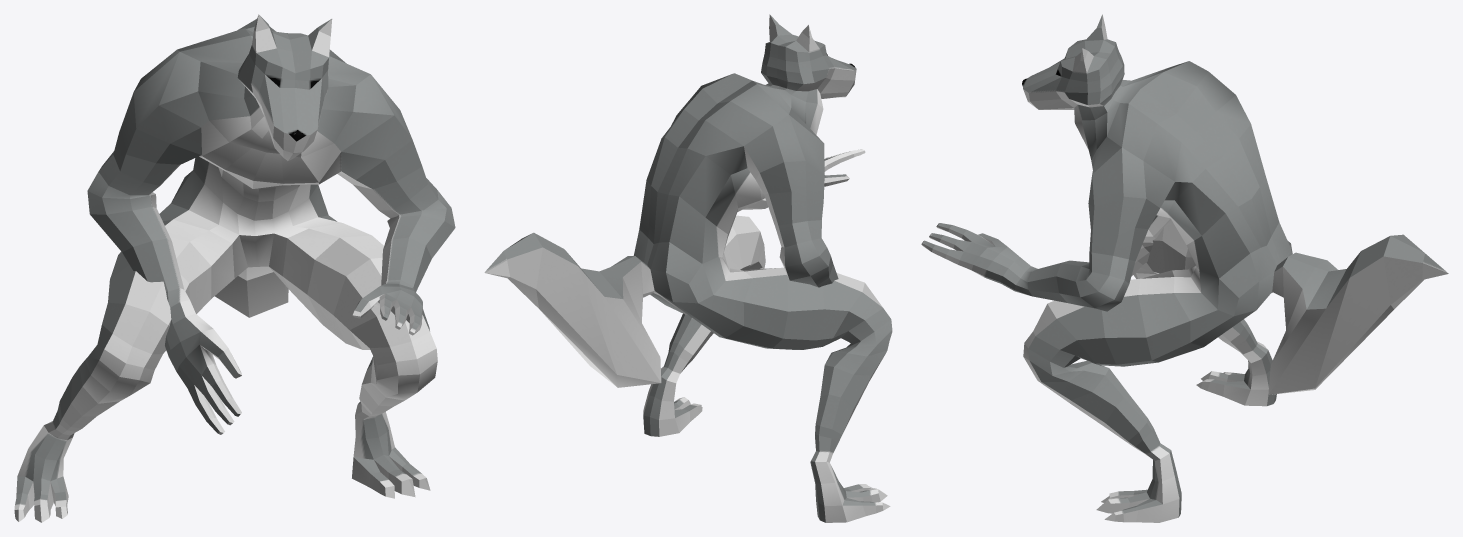
The model's file is WolfAttack(84).obj.
The picture shows the model from 3 angles, left to right: view 1: azimuth 30°, elevation 25°; view 2: azimuth 150°, elevation 25°; view 3: azimuth 270°, elevation 25°; orthographic projection. The views are drawn at different scales.
Parts seen in each view (by area): view 1: Box001; view 2: Box001; view 3: Box001.
Boxes of the visible parts, <box> form: Box001: <box>14,14,455,522</box>; Box001: <box>484,14,892,522</box>; Box001: <box>921,14,1448,522</box>.
Bounding box in the file's own units: 84.36 × 113 × 123.
